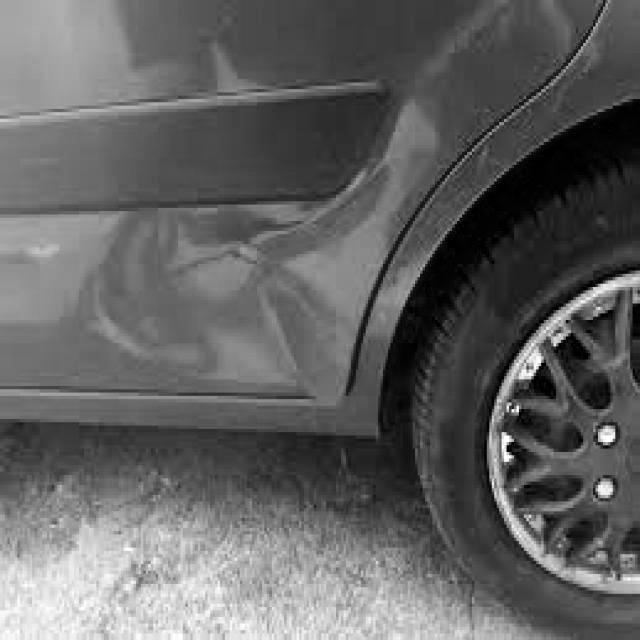doorouter-dent: (31, 91, 412, 396)
